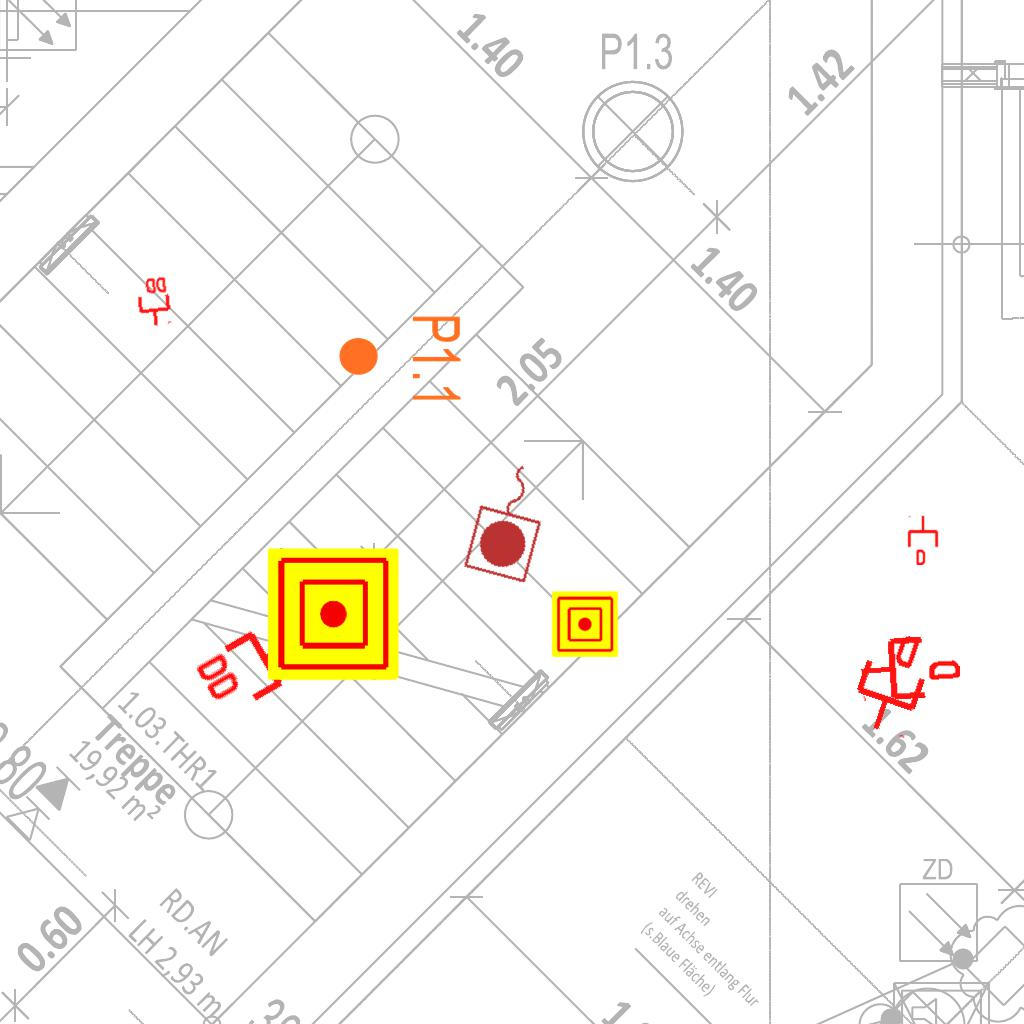Datenanschluss_einfach: (842, 624, 941, 742), (857, 630, 962, 706), (906, 515, 940, 565)
Datenanschluss_zweifach: (188, 613, 313, 726), (133, 274, 173, 329)
Downlight_LED_Einbauleuchten_Flur: (336, 313, 464, 406)
NAM-Nichtautomatischer_Melder: (267, 548, 399, 680), (552, 591, 618, 657)
Zugtaster: (459, 451, 561, 589)
